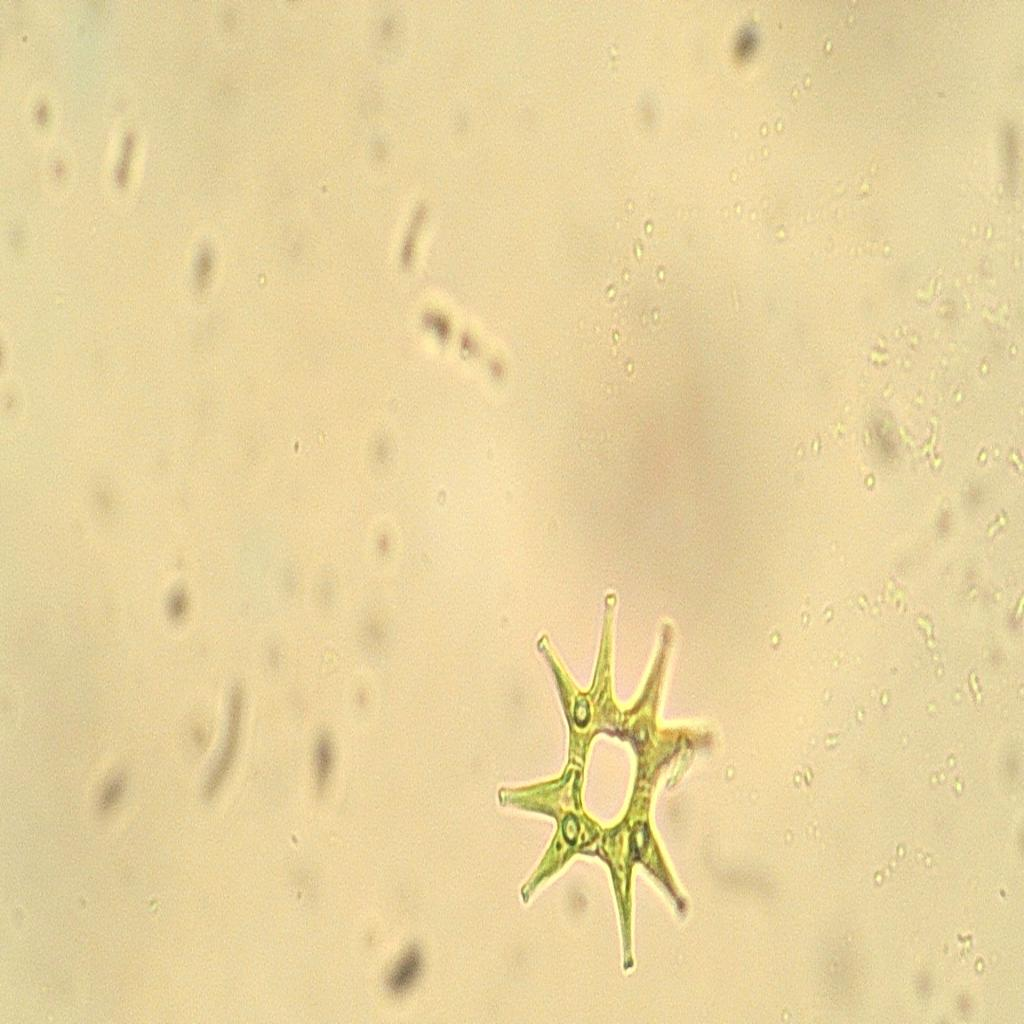Pediastrum_75O: (491, 564, 726, 975)
